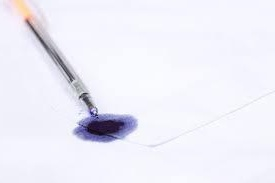ink: (75, 117, 134, 138)
